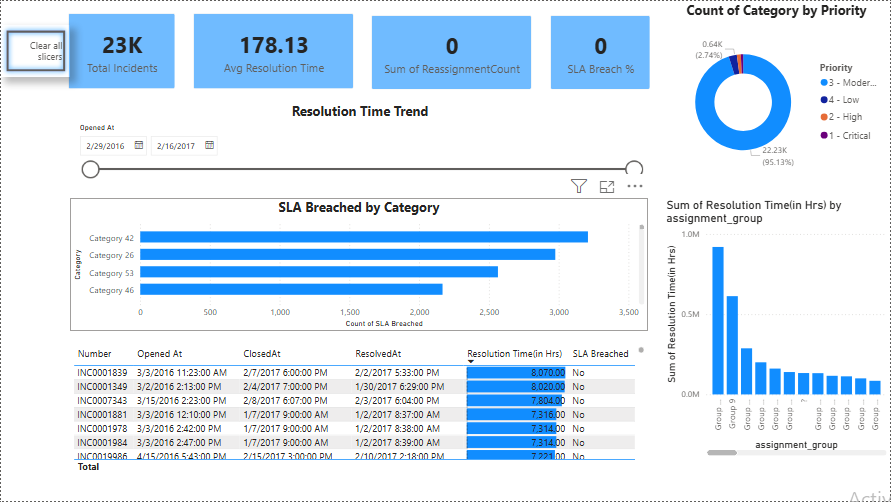

The dashboard page shown, as its layout file describes it:
{"tool":"powerbi","page":{"name":"Page 1","canvas":[1280,720],"ordinal":0},"visuals":[{"type":"cardVisual","fields":{"Data":["incident_event_log.Total Incidents"]},"box":[79.4,0,189.2,144.8],"z":0},{"type":"cardVisual","fields":{"Data":["incident_event_log.Avg Resolution Time"]},"box":[259.3,0,266.3,144.8],"z":1000},{"type":"cardVisual","fields":{"Data":["Sum(incident_event_log.ReassignmentCount)"]},"box":[516.2,2.3,266.3,142.5],"z":2000},{"type":"cardVisual","fields":{"Data":["incident_event_log.SLA Breach %"]},"box":[773.1,2.3,179.9,142.5],"z":3000},{"type":"actionButton","box":[0,35,100.4,74.7],"z":3001},{"type":"donutChart","fields":{"Category":["incident_event_log.Priority"],"Y":["CountNonNull(incident_event_log.Category)"]},"box":[953.3,0,326.9,266.4],"z":3002},{"type":"slicer","title":"Resolution Time Trend","fields":{"Values":["incident_event_log.Opened At"]},"box":[100.8,145.4,832.3,121],"z":3003},{"type":"clusteredBarChart","title":"SLA Breached by Category","fields":{"Category":["incident_event_log.Category"],"Y":["CountNonNull(incident_event_log.SLA Breached)"]},"box":[99.4,283.7,832.3,191.5],"z":3004},{"type":"tableEx","fields":{"Values":["incident_event_log.Number","incident_event_log.Opened At","incident_event_log.ClosedAt","incident_event_log.ResolvedAt","select","incident_event_log.Resolution Time(in Hrs)","select1","incident_event_log.SLA Breached"]},"box":[99,492,832,192],"z":3005},{"type":"clusteredColumnChart","fields":{"Category":["incident_event_log.assignment_group"],"Y":["Sum(incident_event_log.Resolution Time(in Hrs))"]},"box":[953.3,283.7,326.9,375.8],"z":3006}]}

Visuals, with their boxes in screenshot pixels (x1, y1, x2, y2), scaled from the page's 1280x720 canvas onto the 891x502 screenshot:
cardVisual - incident_event_log.Total Incidents: 55, 0, 187, 101
cardVisual - incident_event_log.Avg Resolution Time: 180, 0, 366, 101
cardVisual - Sum(incident_event_log.ReassignmentCount): 359, 2, 545, 101
cardVisual - incident_event_log.SLA Breach %: 538, 2, 663, 101
actionButton: 0, 24, 70, 76
donutChart - incident_event_log.Priority x CountNonNull(incident_event_log.Category): 664, 0, 890, 186
"Resolution Time Trend" slicer: 70, 101, 650, 186
"SLA Breached by Category" clusteredBarChart: 69, 198, 649, 331
tableEx - incident_event_log.Number x incident_event_log.Opened At: 69, 343, 648, 477
clusteredColumnChart - incident_event_log.assignment_group x Sum(incident_event_log.Resolution Time(in Hrs)): 664, 198, 890, 460
